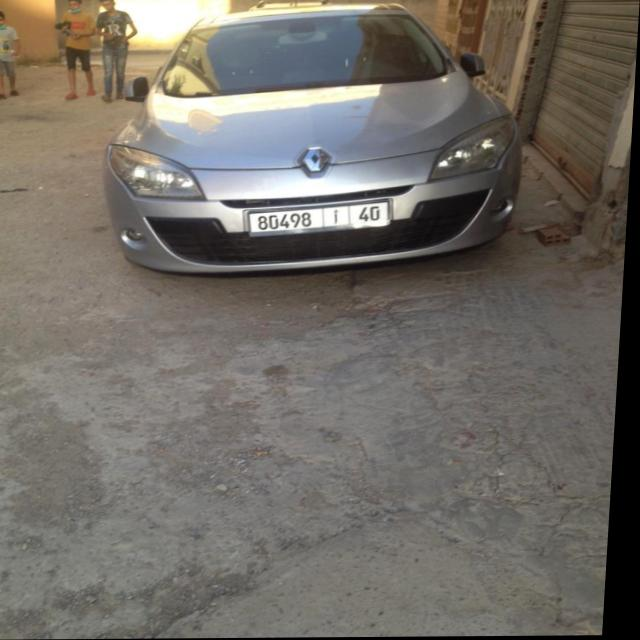License-Plate: (252, 201, 393, 237)
